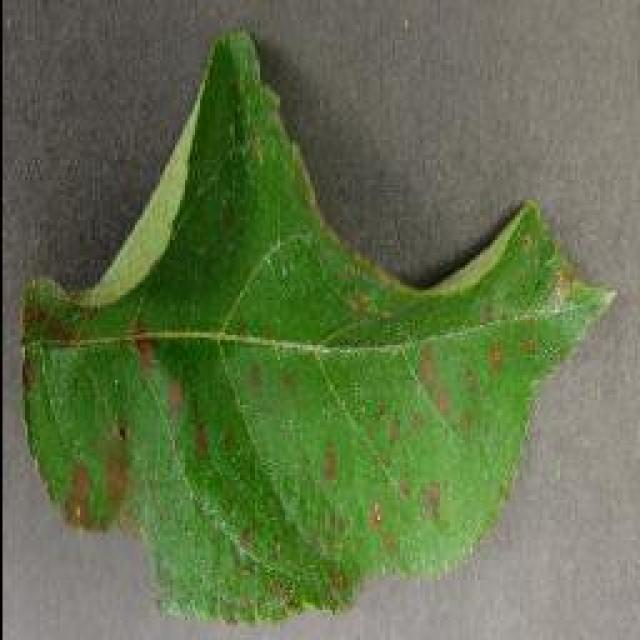apple rust disease: (18, 25, 618, 625)
